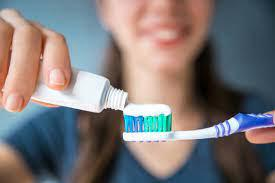toothpaste: (33, 56, 130, 117)
